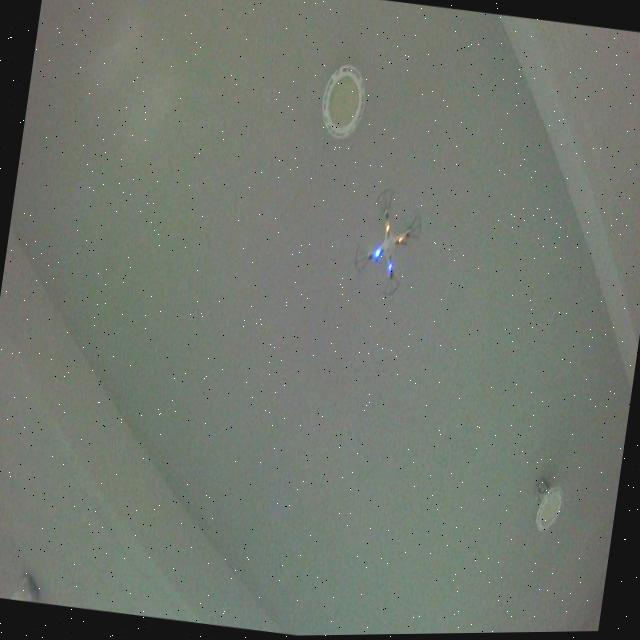drone: (346, 184, 428, 303)
